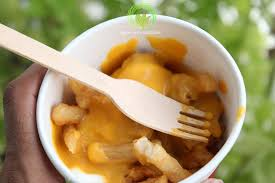Wooden Utensils: (2, 9, 211, 140)
